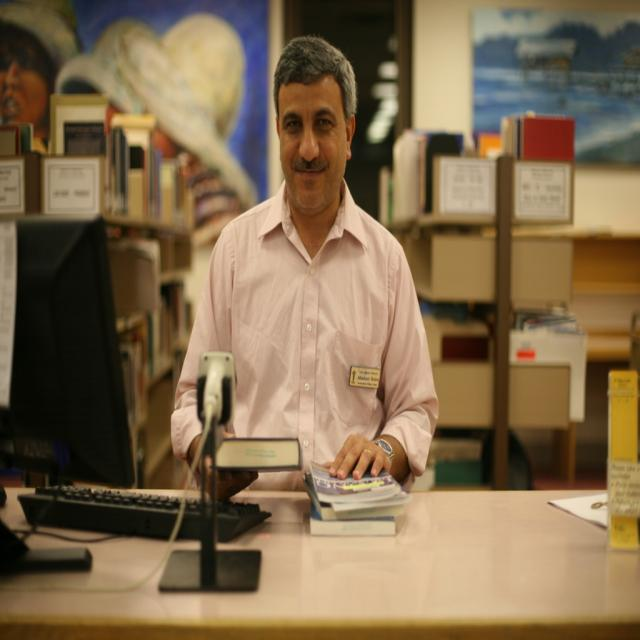desk: (0, 488, 639, 639)
keyboard: (19, 482, 265, 542)
person: (168, 35, 441, 487)
tv: (6, 216, 138, 488)
